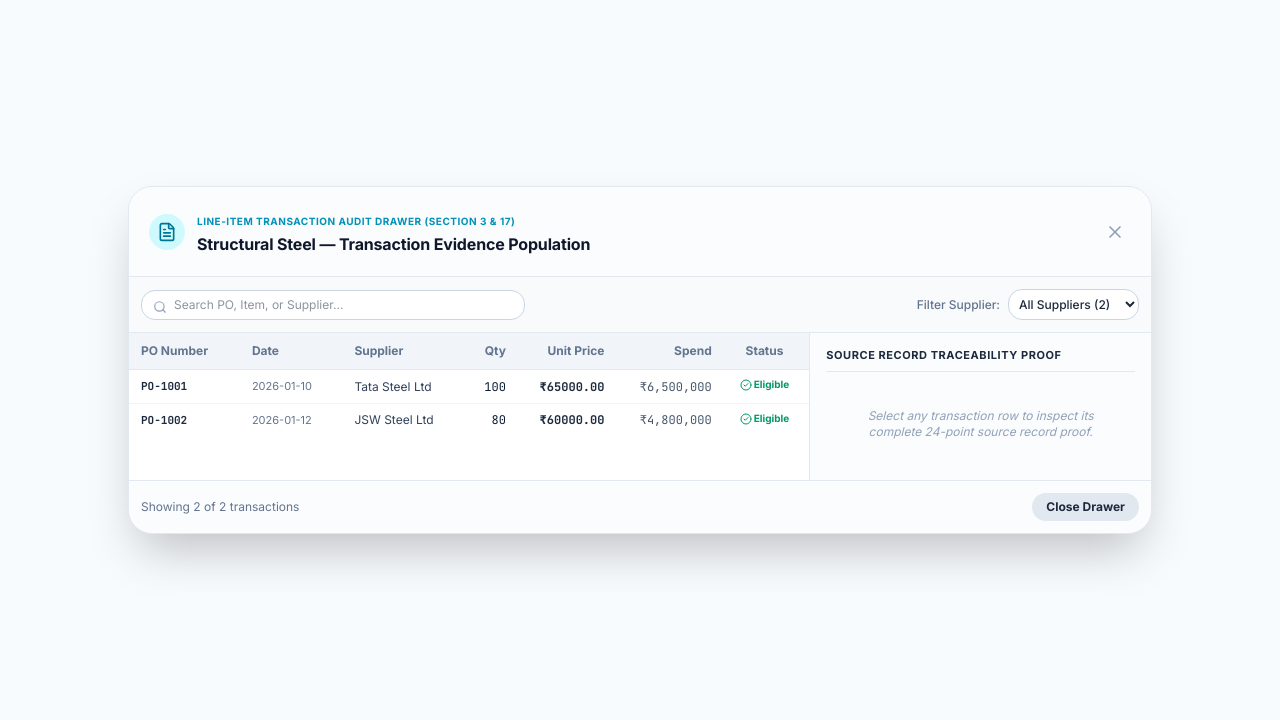
Test case: Module 2 — Evidence Chain & Traceability UI Components › TransactionEvidenceDrawer: renders 24-point transaction inspector
expect the text "LINE-ITEM TRANSACTION AUDIT DRAWER (SECTION 3 & 17)" is shown: met, box x1=197 y1=215 x2=515 y2=227
Note: Click row to view inspector
Click the text "PO-1001": (184,387) x1=129 y1=370 x2=240 y2=404
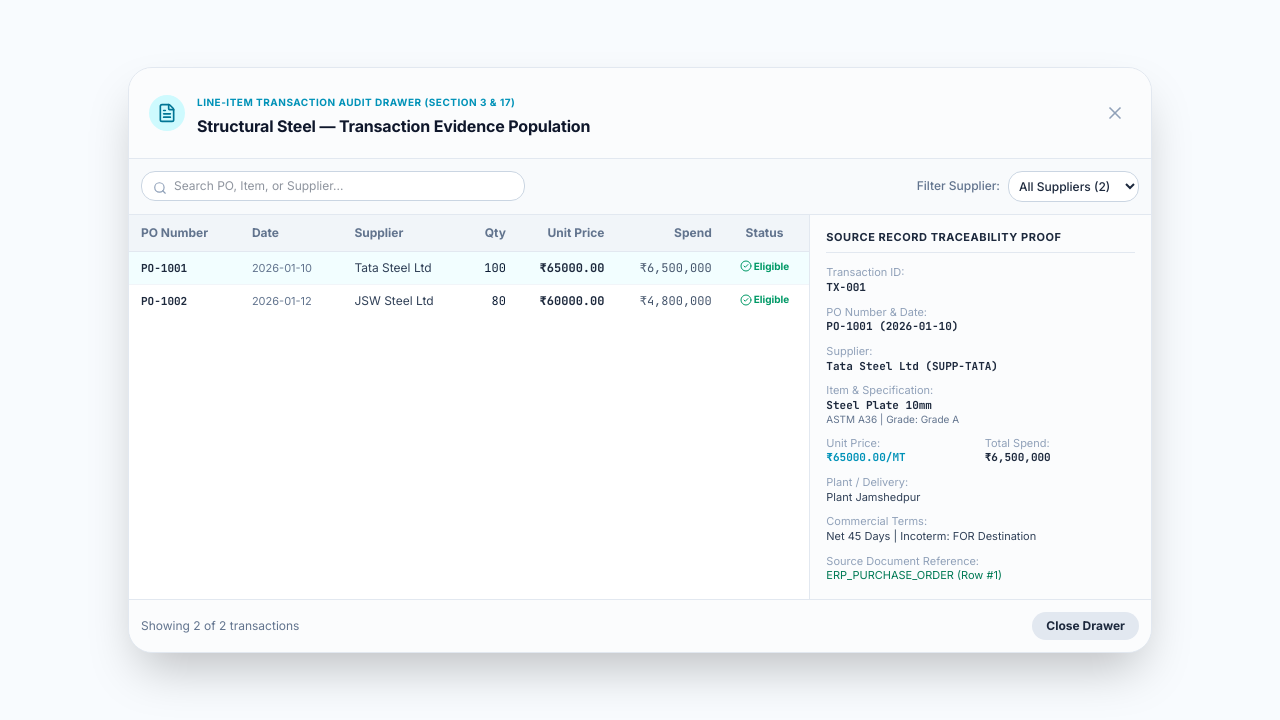
expect the heading "Source Record Traceability Proof" is shown: met, box x1=826 y1=230 x2=1135 y2=253
expect the text "TX-001" is shown: met, box x1=826 y1=280 x2=866 y2=294
expect the text "ERP_PURCHASE_ORDER (Row #1)" is shown: met, box x1=826 y1=568 x2=1002 y2=582
